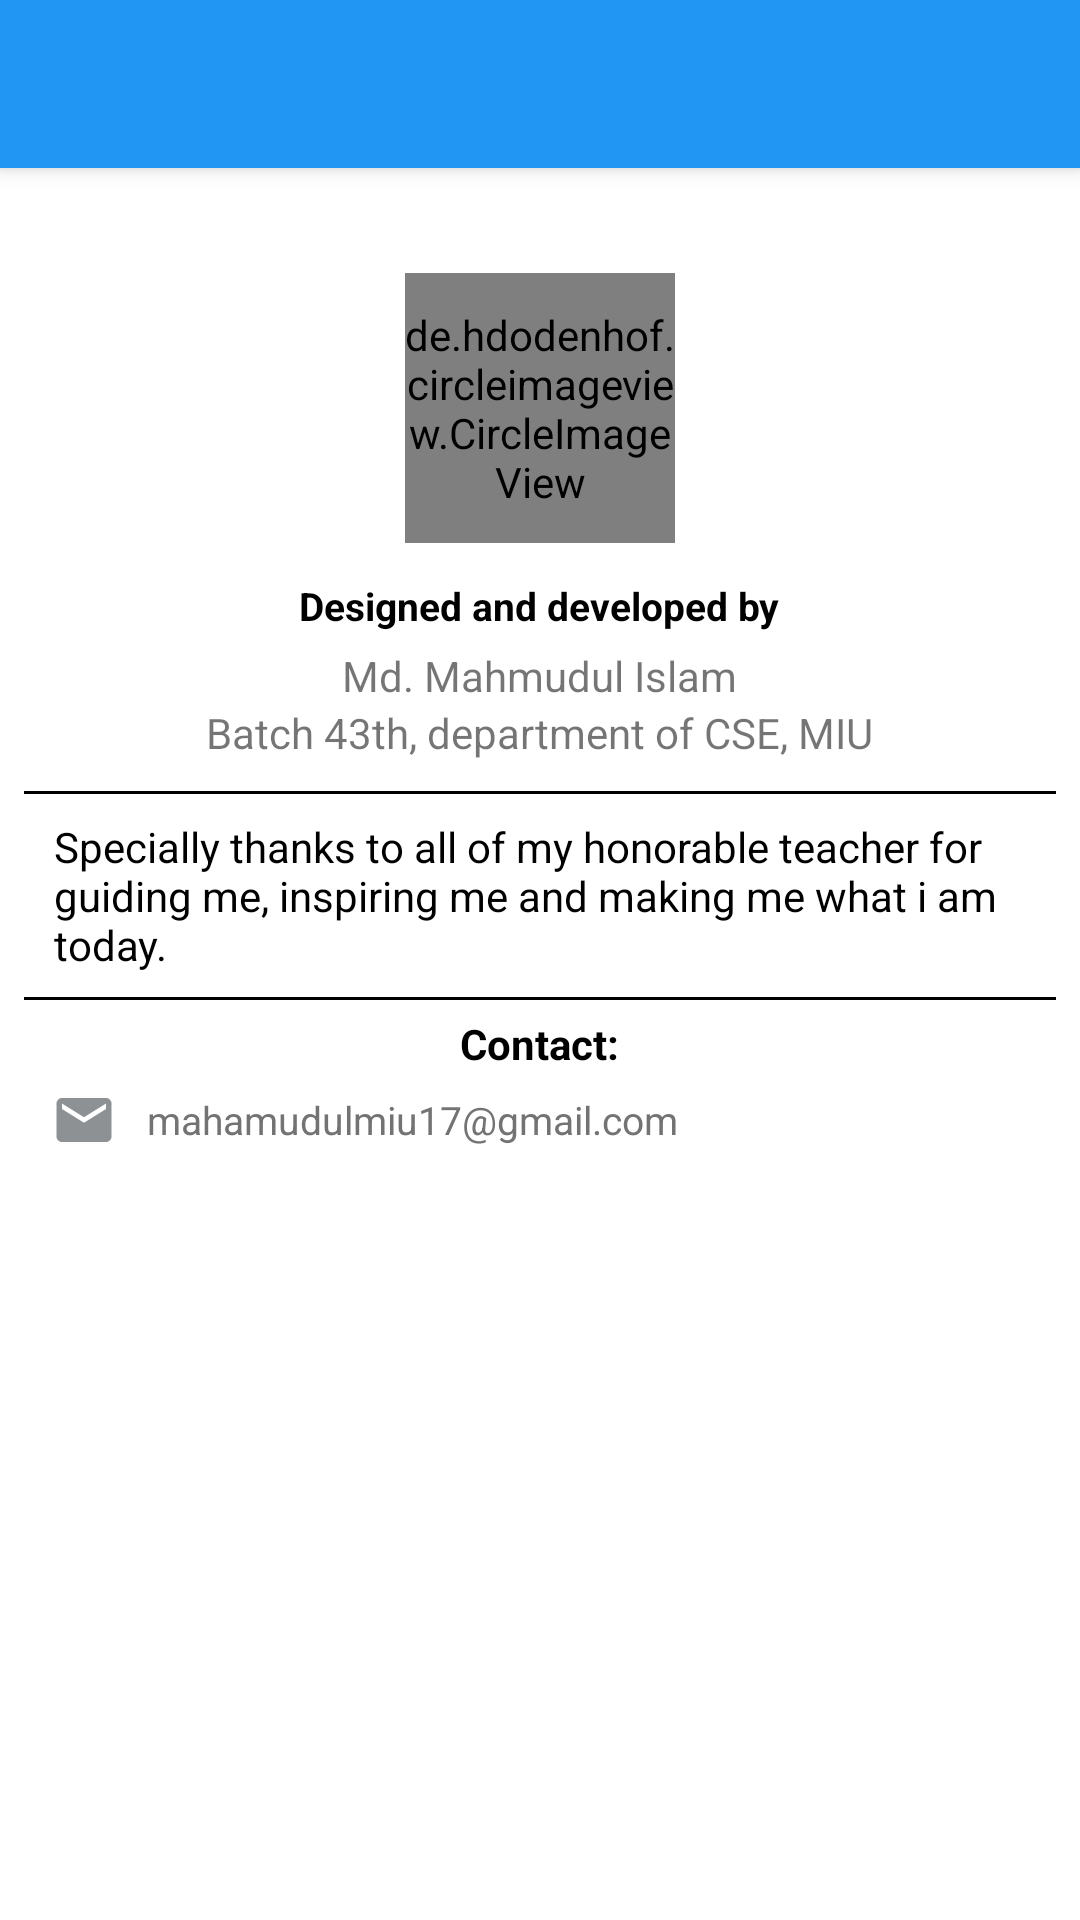

Where icons sit on this 1080px x 1920px app screen, as rect(x1, y1, x2, y2):
email: rect(56, 1098, 112, 1142)
